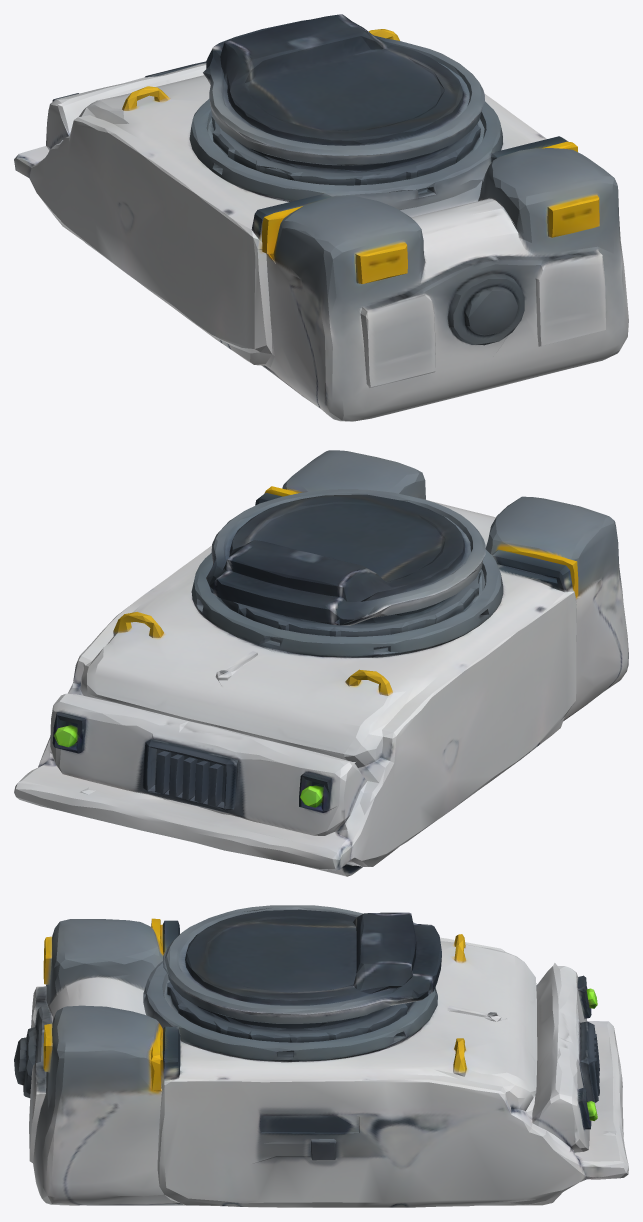
File: hull.glb
3 renders of one model, top to bottom at view 1: azimuth 30°, elevation 25°; view 2: azimuth 150°, elevation 25°; view 3: azimuth 270°, elevation 25°, orthographic. The views are drawn at different scales.
Visible parts, largest first — view 1: Hull; view 2: Hull; view 3: Hull.
Boxes of the visible parts, <box> form: Hull: <box>14,14,628,421</box>; Hull: <box>14,450,628,876</box>; Hull: <box>14,905,628,1207</box>.
Size of the model in its own units: 0.9869 by 0.6416 by 1.72.
Materials: 1 (1 with a texture image).
